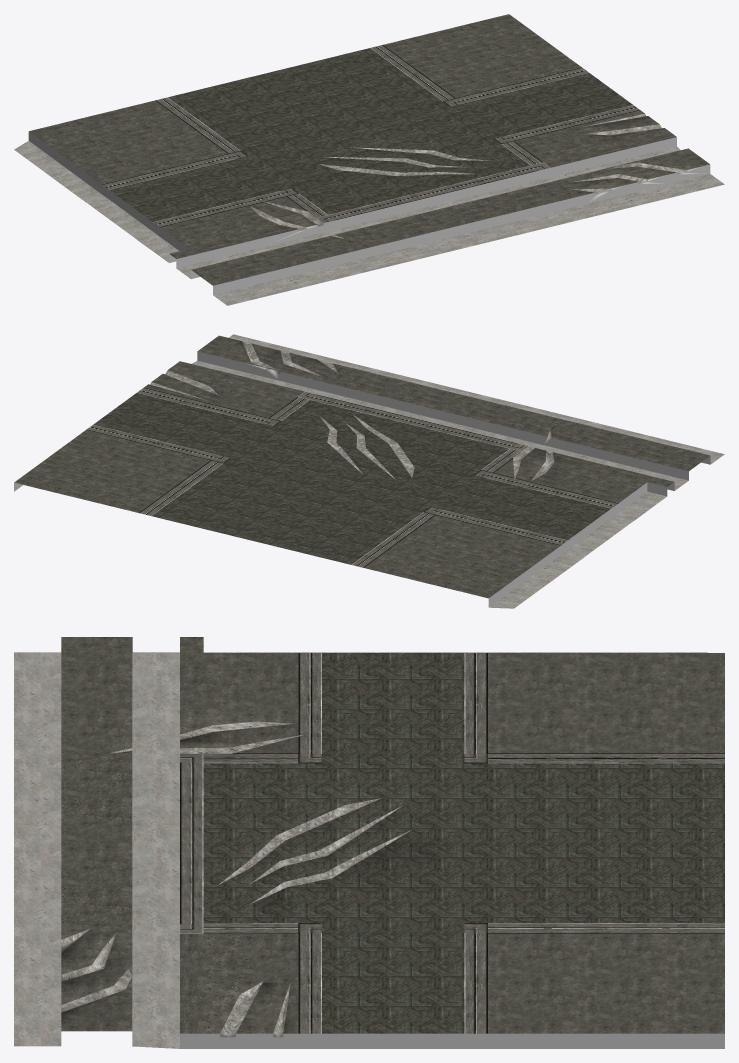
Rendered from DWARF_PALACE_MAINHALL_FLOOR02.obj.
3 views of the same model, one above another, from view 1: azimuth 30°, elevation 25°; view 2: azimuth 150°, elevation 25°; view 3: azimuth 270°, elevation 25° (orthographic). The views are drawn at different scales.
Parts seen in each view (by area): view 1: ainhall_floor02; view 2: ainhall_floor02; view 3: ainhall_floor02.
Boxes of the visible parts, x1,y1,x2,y2 form: ainhall_floor02: [14, 14, 724, 305]; ainhall_floor02: [14, 334, 724, 608]; ainhall_floor02: [14, 637, 724, 1048].
Bounding box in the file's own units: 3961 × 75.76 × 3000.
